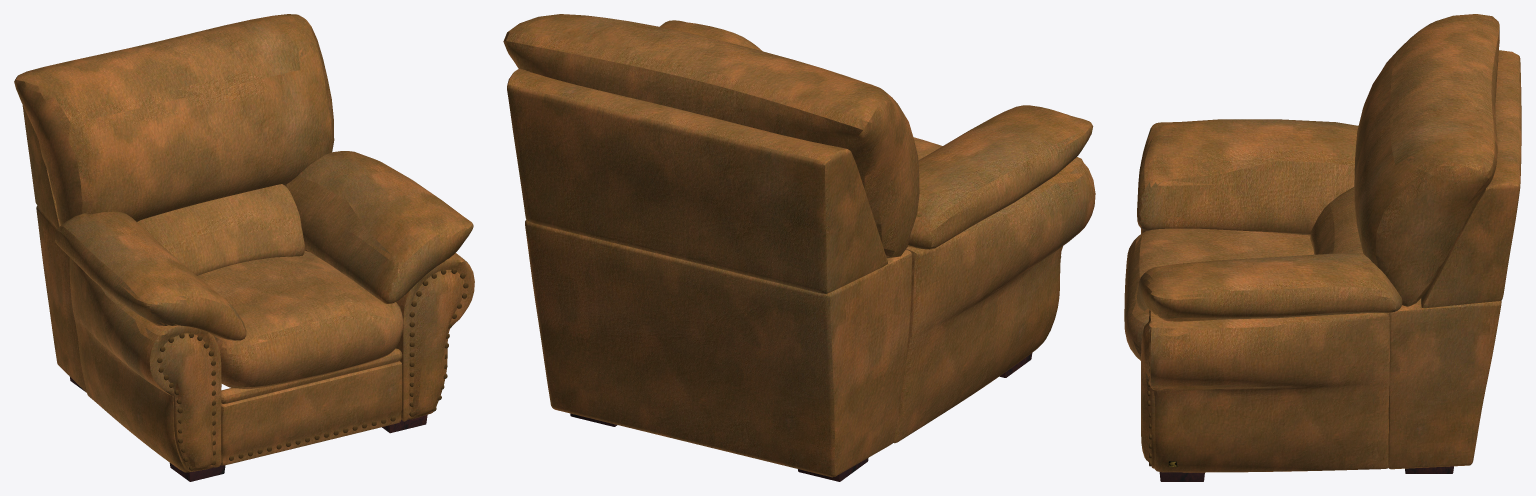
Rendered from sofa1_gray.obj.
3 renders of one model, left to right at view 1: azimuth 30°, elevation 25°; view 2: azimuth 150°, elevation 25°; view 3: azimuth 270°, elevation 25°, orthographic. The views are drawn at different scales.
Parts seen in each view (by area): view 1: _tapicerka, _tapicerk1, _tapicerk6, _tapicerk3, _tapicerk4, _tapicerk7, _tapicerk0, _tapicerk2, _cwieki, _tapicerk5, _drewno; view 2: _tapicerk2, _tapicerka, _tapicerk3, _tapicerk1, _drewno; view 3: _tapicerk1, _tapicerk3, _tapicerka, _tapicerk2, _tapicerk6, _tapicerk0, _tapicerk7, _drewno.
Part boxes in pixels (x1=…): _tapicerka: x1=14, y1=14, x2=334, y2=225; _tapicerk1: x1=54, y1=151, x2=473, y2=340; _tapicerk6: x1=197, y1=250, x2=403, y2=388; _tapicerk3: x1=69, y1=249, x2=474, y2=472; _tapicerk4: x1=220, y1=361, x2=402, y2=465; _tapicerk7: x1=159, y1=270, x2=464, y2=471; _tapicerk0: x1=137, y1=184, x2=305, y2=275; _tapicerk2: x1=22, y1=105, x2=86, y2=392; _cwieki: x1=157, y1=268, x2=468, y2=470; _tapicerk5: x1=221, y1=348, x2=402, y2=403; _drewno: x1=69, y1=376, x2=427, y2=481; _tapicerk2: x1=507, y1=69, x2=912, y2=477; _tapicerka: x1=503, y1=14, x2=919, y2=258; _tapicerk3: x1=893, y1=157, x2=1095, y2=443; _tapicerk1: x1=660, y1=20, x2=1093, y2=249; _drewno: x1=570, y1=353, x2=1032, y2=481; _tapicerk1: x1=1137, y1=119, x2=1402, y2=321; _tapicerk3: x1=1149, y1=310, x2=1389, y2=472; _tapicerka: x1=1354, y1=14, x2=1499, y2=306; _tapicerk2: x1=1388, y1=50, x2=1521, y2=469; _tapicerk6: x1=1124, y1=228, x2=1314, y2=360; _tapicerk0: x1=1310, y1=187, x2=1362, y2=254; _tapicerk7: x1=1141, y1=228, x2=1154, y2=468; _drewno: x1=1159, y1=466, x2=1453, y2=481.
Bounding box in the file's own units: 105 × 93.02 × 99.23.
4 materials, 3 textured.
